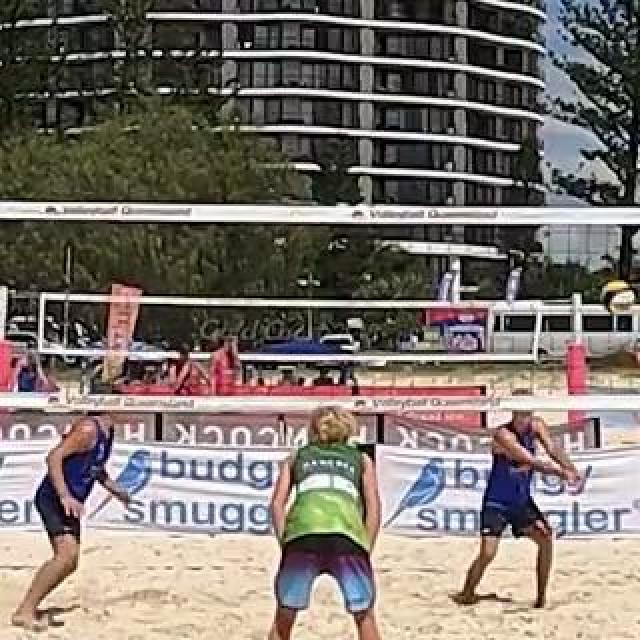volleyball: (601, 279, 633, 313)
